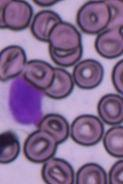L: (1, 74, 48, 131)
